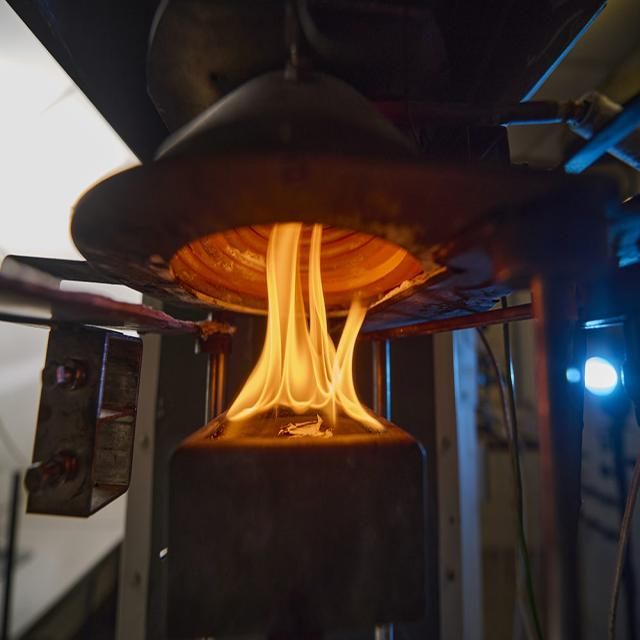fire: (224, 215, 388, 440)
